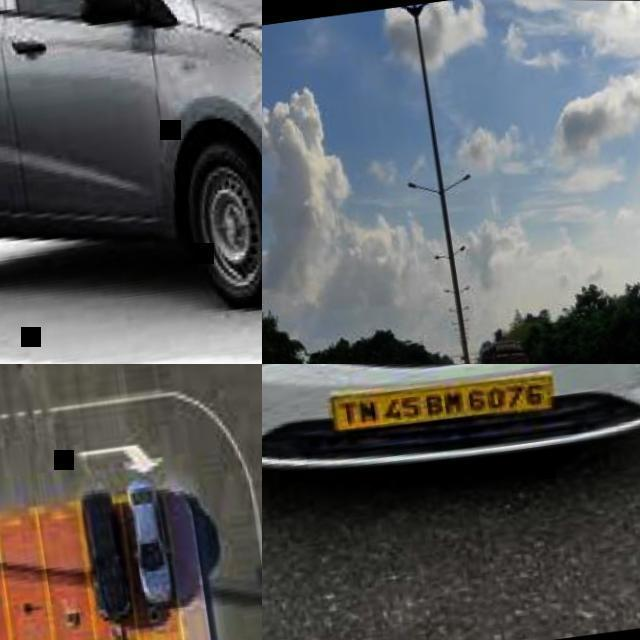car: (0, 0, 265, 306)
